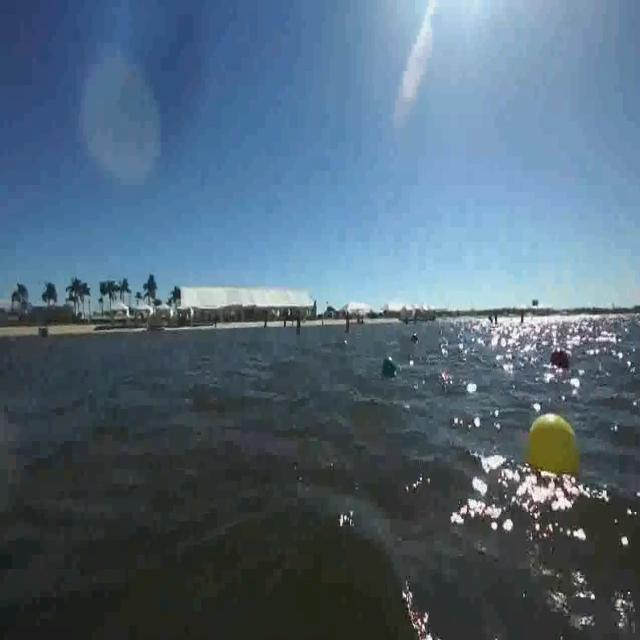yellow-buoy: (525, 410, 582, 483)
